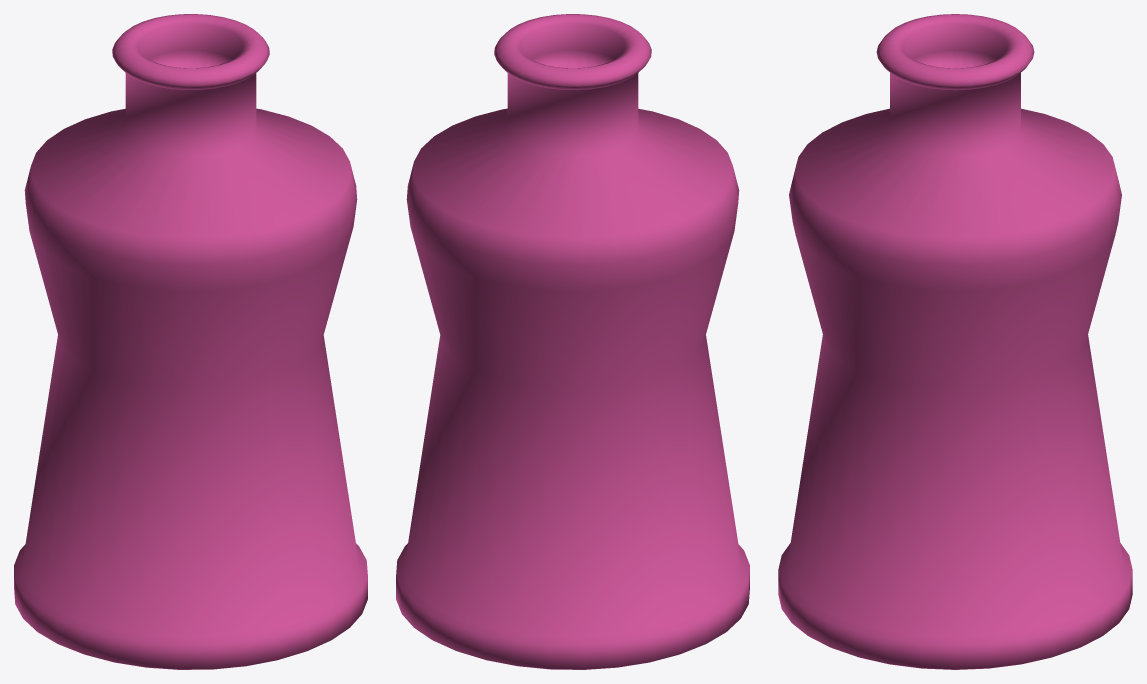
File: Bottle.fbx
The picture shows the model from 3 angles, left to right: view 1: azimuth 30°, elevation 25°; view 2: azimuth 150°, elevation 25°; view 3: azimuth 270°, elevation 25°; orthographic projection.
Visible parts, largest first — view 1: Cylinder; view 2: Cylinder; view 3: Cylinder.
Part boxes in pixels (x1=…): Cylinder: x1=14, y1=14, x2=367, y2=669; Cylinder: x1=396, y1=14, x2=749, y2=669; Cylinder: x1=778, y1=14, x2=1132, y2=669.
Size of the model in its own units: 86.5 by 150 by 86.5.
